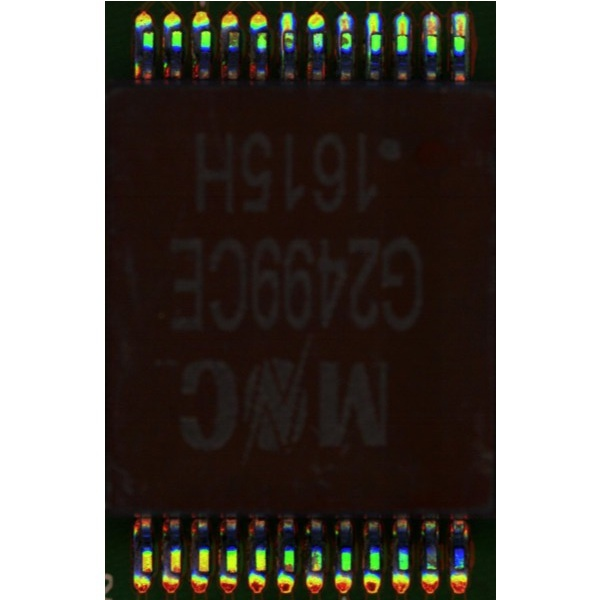Bad_podu: (456, 24, 464, 45), (428, 25, 437, 40), (342, 22, 349, 40), (400, 25, 407, 42), (371, 22, 378, 39)
Bad_qiaojiao: (279, 29, 285, 62), (367, 34, 372, 66)
